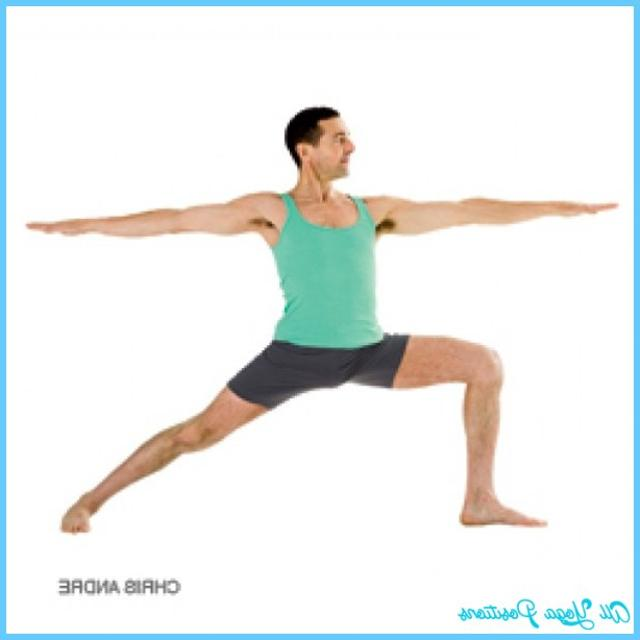Warrior_II: (16, 108, 623, 538)
